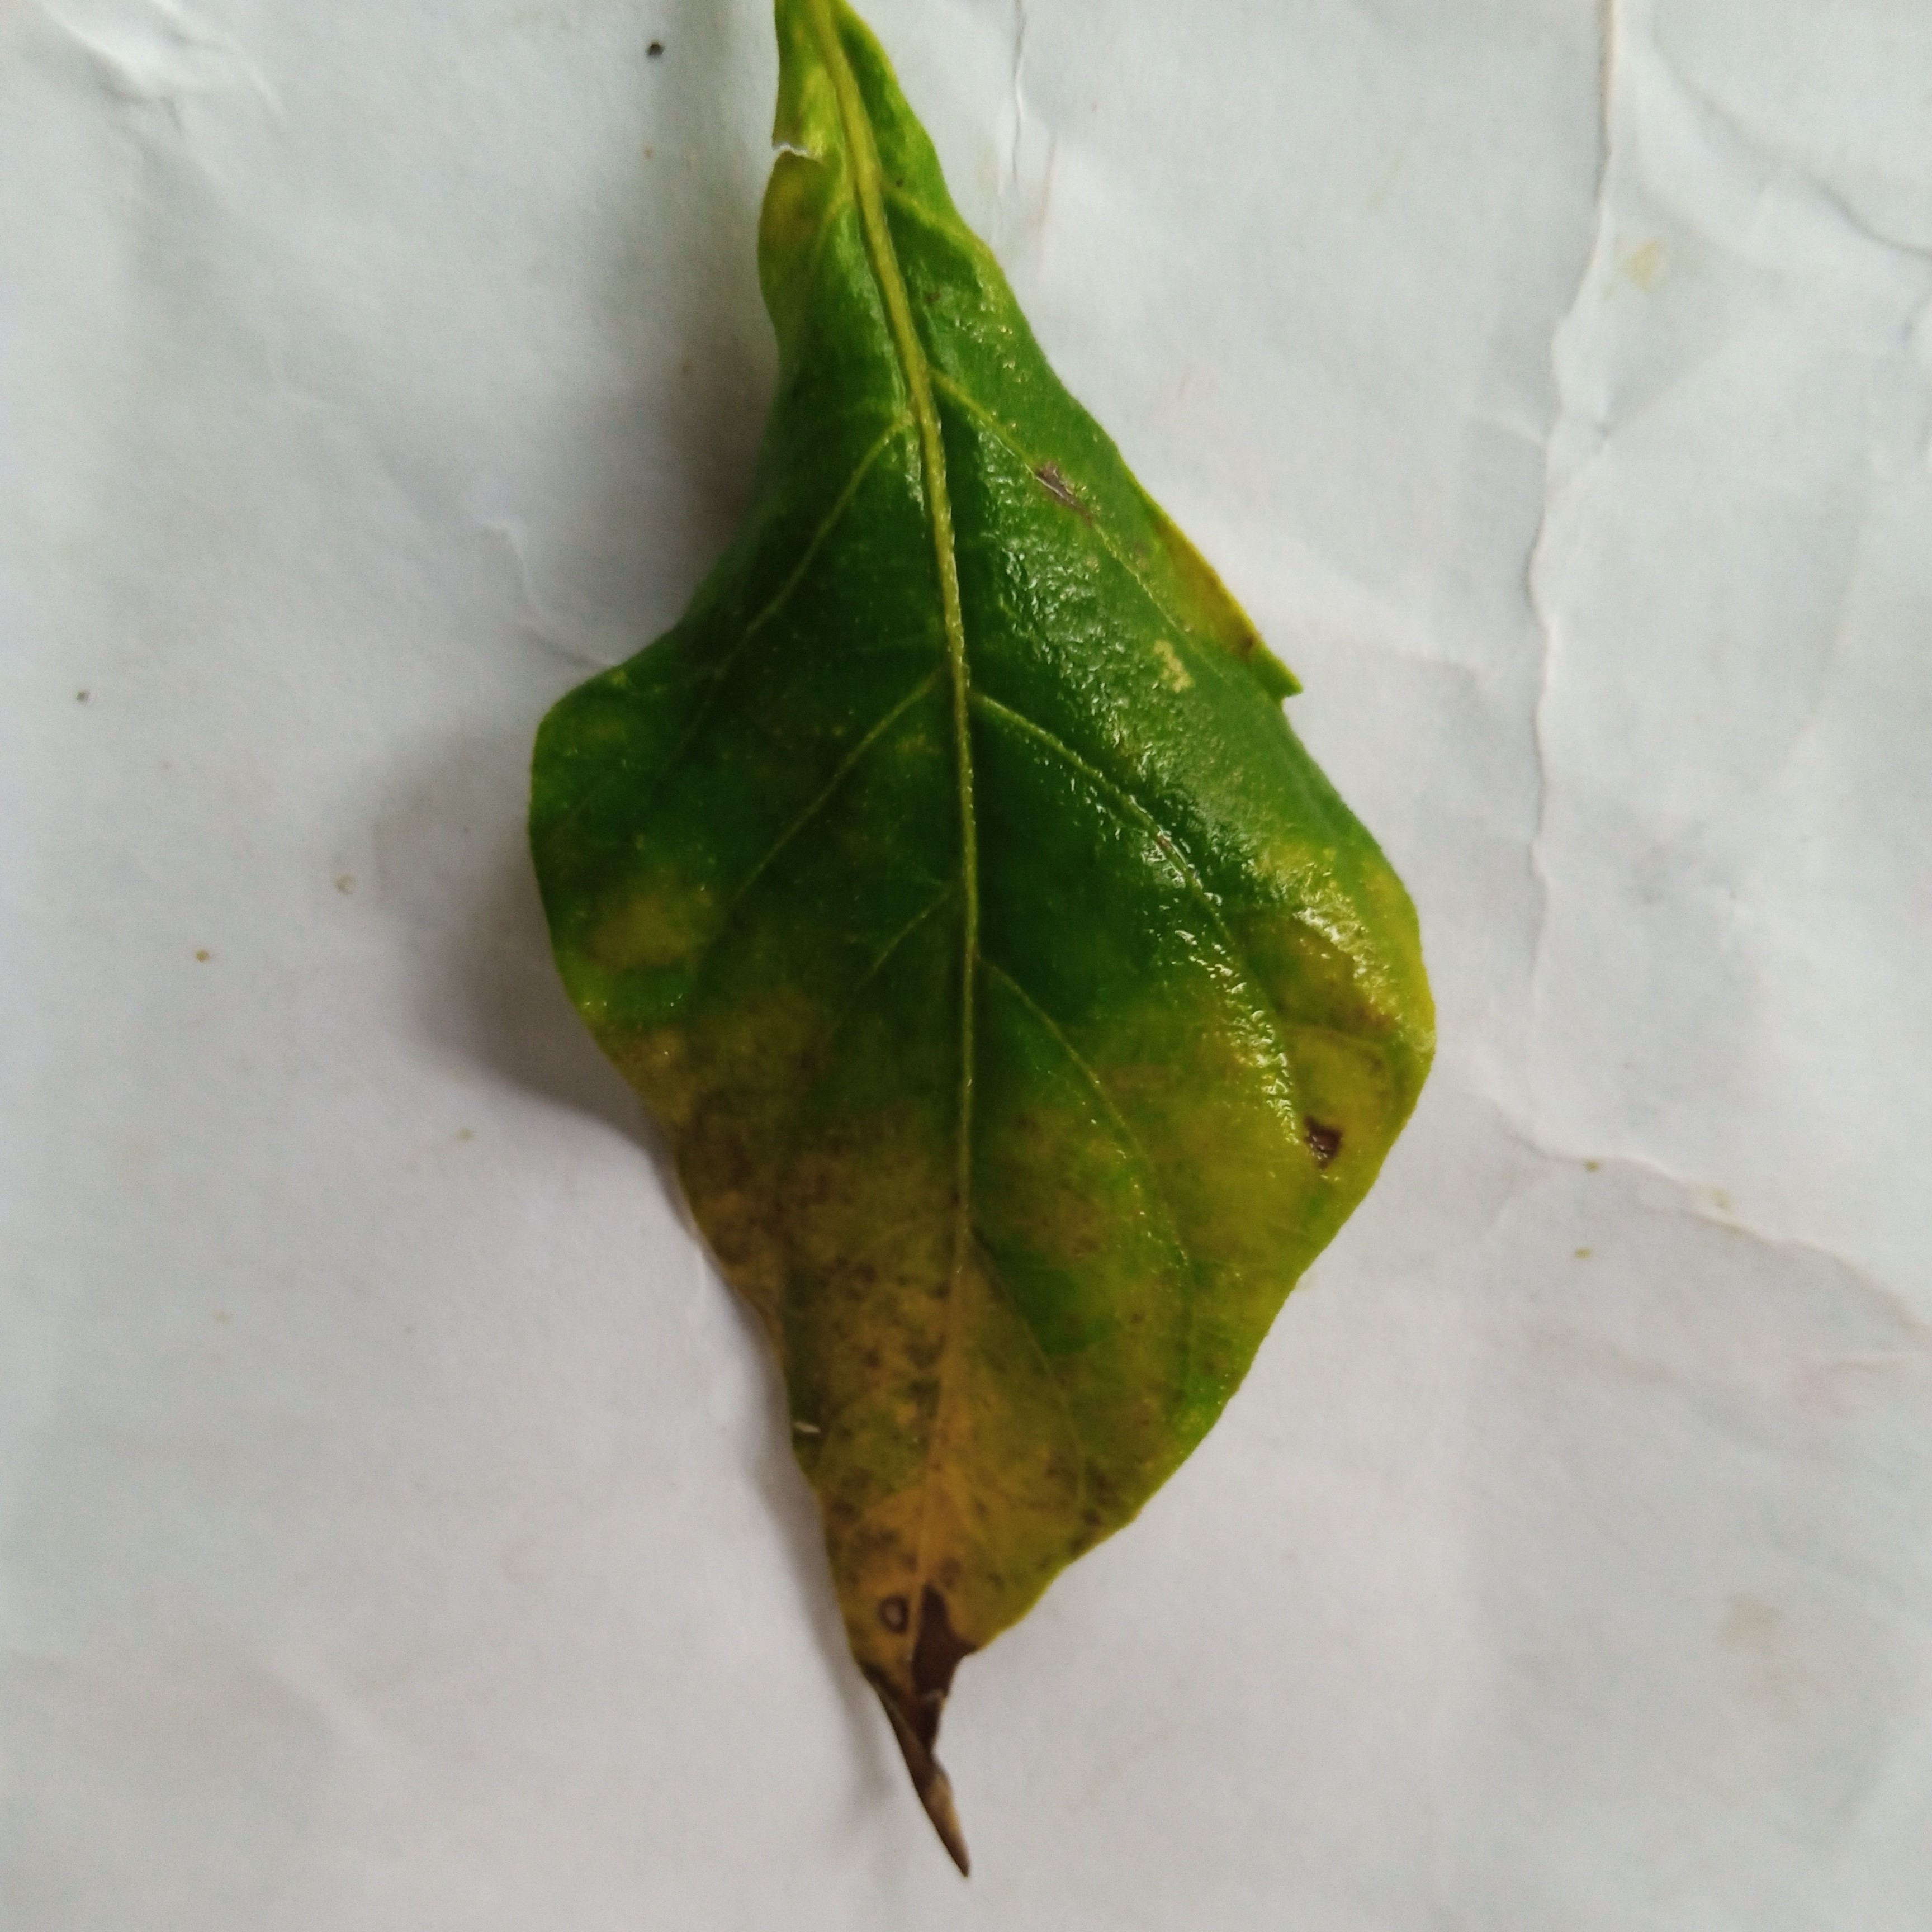Leaf: (322, 94, 1610, 1932)
